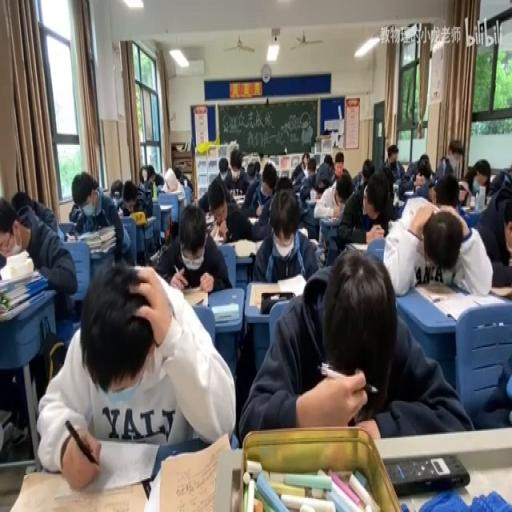calculator: (6, 462, 148, 511), (414, 283, 494, 321), (248, 276, 306, 309), (210, 300, 238, 322), (181, 287, 208, 307), (234, 236, 256, 258), (76, 226, 110, 240), (90, 244, 115, 258), (488, 283, 511, 297), (394, 192, 406, 215), (205, 213, 217, 235), (349, 240, 368, 250), (320, 214, 338, 224), (211, 233, 224, 246), (254, 239, 264, 253), (232, 195, 245, 205), (298, 226, 308, 239), (246, 216, 260, 225), (64, 232, 78, 240), (308, 238, 318, 248), (306, 196, 316, 205), (159, 204, 172, 210), (461, 204, 474, 210), (144, 216, 155, 223), (404, 189, 414, 196)
paper: (239, 247, 468, 444), (37, 259, 232, 488), (384, 189, 493, 299), (2, 194, 76, 322), (157, 199, 228, 292), (251, 189, 319, 283), (68, 172, 130, 269), (335, 164, 389, 250), (461, 158, 492, 206), (402, 152, 430, 198), (118, 180, 150, 220), (223, 148, 250, 195), (224, 206, 256, 245), (485, 162, 512, 199), (433, 172, 461, 206), (382, 142, 404, 182), (296, 156, 318, 196), (10, 189, 34, 219), (207, 181, 226, 212), (261, 161, 277, 193), (138, 162, 154, 189), (162, 168, 178, 192), (177, 165, 192, 189), (437, 158, 453, 178), (336, 184, 350, 206), (109, 179, 122, 201), (69, 203, 82, 225), (275, 174, 293, 189), (362, 165, 374, 185), (448, 138, 462, 155), (153, 172, 165, 189), (322, 154, 332, 172), (334, 155, 344, 169), (253, 161, 259, 175), (301, 155, 307, 169), (509, 164, 512, 180)
person: (384, 452, 470, 494)
